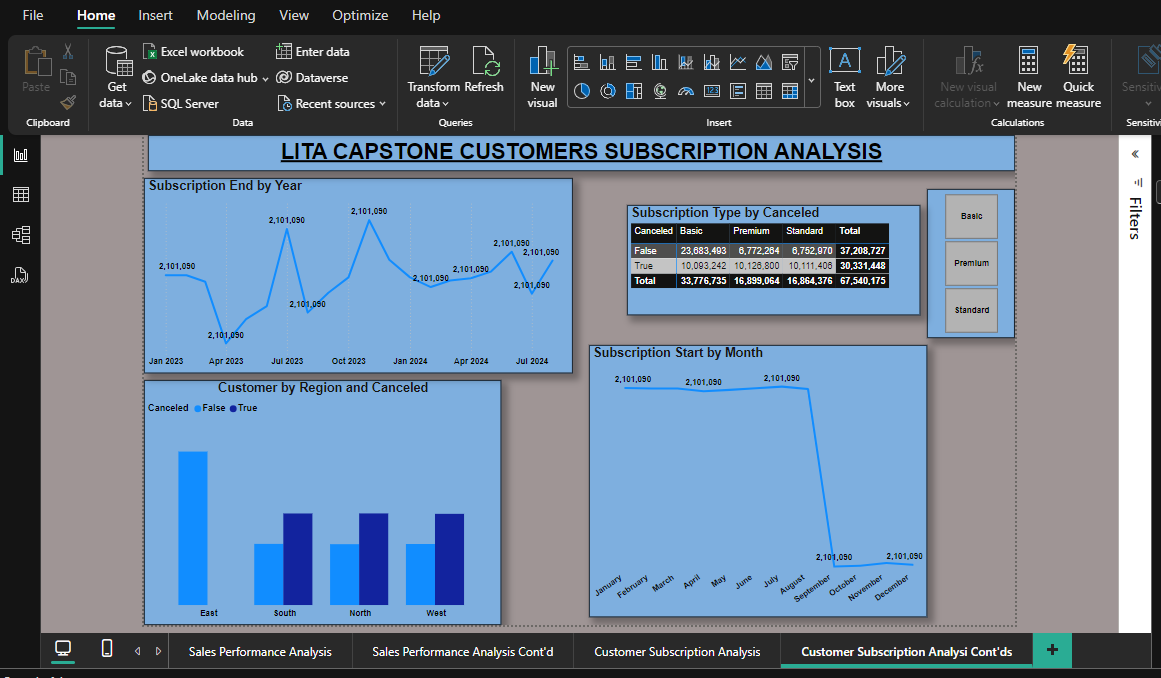

The page's visual inventory and layout, read from the dashboard file:
{"tool":"powerbi","page":{"name":"Customer Subscription Analysi Cont'ds","canvas":[1280,720],"ordinal":3},"visuals":[{"type":"clusteredColumnChart","title":"Customer by Region and Canceled","fields":{"Category":["Customer Data.Region"],"Series":["Customer Data.Canceled"],"Y":["CountNonNull(Customer Data.CustomerName)"]},"box":[0,360,524.6,360],"z":0},{"type":"slicer","fields":{"Values":["Customer Data.SubscriptionType"]},"box":[1150.5,79.3,129.3,218.9],"z":1000},{"type":"lineChart","title":"Subscription Start by Month","fields":{"Category":["Customer Data.SubscriptionStart.Variation.Date Hierarchy.Year","Customer Data.SubscriptionStart.Variation.Date Hierarchy.Month"],"Y":["Sum(Customer Data.Subscription Duration)"]},"box":[653.9,308.6,496.7,399.7],"z":2000},{"type":"lineChart","title":"Subscription End by Year","fields":{"Y":["Sum(Customer Data.Subscription Duration)"],"Category":["Customer Data.SubscriptionEnd.Variation.Date Hierarchy.Year","Customer Data.SubscriptionEnd.Variation.Date Hierarchy.Month"]},"box":[0,63.2,630.4,286.5],"z":3000},{"type":"textbox","box":[5.9,0,1274,52.9],"z":4000},{"type":"pivotTable","title":"Subscription Type by Canceled","fields":{"Columns":["Customer Data.SubscriptionType"],"Rows":["Customer Data.Canceled"],"Values":["Sum(Customer Data.Revenue)"]},"box":[709.7,102.9,430.5,161.6],"z":5000}]}

Visuals, with their boxes on the page's 1280x720 design canvas (x1, y1, x2, y2). These are canvas units, not pixel positions in the 1161x678 screenshot, which may show the page scaled, cropped or inside an application window:
"Customer by Region and Canceled" clusteredColumnChart: (0,360,525,720)
slicer - Customer Data.SubscriptionType: (1150,79,1280,298)
"Subscription Start by Month" lineChart: (654,309,1151,708)
"Subscription End by Year" lineChart: (0,63,630,350)
textbox: (6,0,1280,53)
"Subscription Type by Canceled" pivotTable: (710,103,1140,264)
